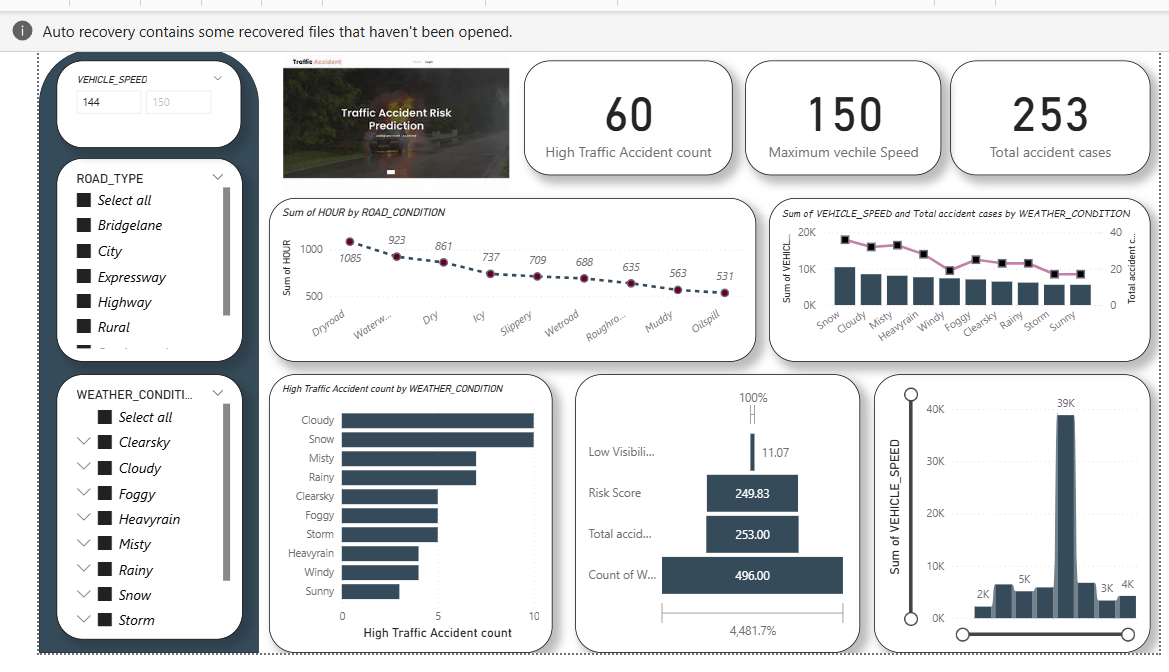

Layout of this report page (visuals, bound fields, positions):
{"tool":"powerbi","page":{"name":"Page 1","canvas":[1280,720],"ordinal":0},"visuals":[{"type":"card","fields":{"Values":["smart taffic.High Traffic Accident count"]},"box":[554.3,42.9,238.6,131.4],"z":0},{"type":"card","fields":{"Values":["smart taffic.Maximum vechile Speed"]},"box":[807.1,42.9,224.3,131.4],"z":1000},{"type":"card","fields":{"Values":["smart taffic.Total accident cases"]},"box":[1041.4,42.9,228.6,131.4],"z":2000},{"type":"shape","box":[0,30,251.4,690],"z":3000},{"type":"lineChart","fields":{"Y":["Sum(smart taffic.HOUR)"],"Category":["smart taffic.ROAD_CONDITION"]},"box":[262.9,200,557.1,187.1],"z":4000},{"type":"barChart","fields":{"Y":["smart taffic.High Traffic Accident count"],"Category":["smart taffic.WEATHER_CONDITION"]},"box":[262.9,401.4,324.3,318.6],"z":5000},{"type":"lineStackedColumnComboChart","title":"Weather Impact on Vehicle speed & Accidents","fields":{"Y2":["smart taffic.Total accident cases"],"Category":["smart taffic.WEATHER_CONDITION"],"Y":["Sum(smart taffic.VEHICLE_SPEED)"]},"box":[834.3,200,435.7,187.1],"z":6000},{"type":"slicer","fields":{"Values":["smart taffic.ROAD_TYPE"]},"box":[20,154.3,212.9,232.9],"z":7000},{"type":"image","box":[274.3,30,268.6,170],"z":8000},{"type":"funnel","fields":{"Y":["smart taffic.Low Visibility Percentage","smart taffic.Risk Score","smart taffic.Total accident cases","CountNonNull(smart taffic.WEATHER_CONDITION)"]},"box":[612.9,401.4,325.7,318.6],"z":9000},{"type":"columnChart","fields":{"Y":["Sum(smart taffic.VEHICLE_SPEED)"],"Category":["smart taffic.SPEED_LIMIT"]},"box":[954.3,401.4,315.7,318.6],"z":9001},{"type":"slicer","fields":{"Values":["smart taffic.WEATHER_CONDITION","smart taffic.VEHICLE_SPEED"]},"box":[20,401.4,212.9,302.9],"z":9002},{"type":"slicer","fields":{"Values":["smart taffic.VEHICLE_SPEED"]},"box":[20,42.9,211.4,100],"z":9003}]}

Visuals, with their boxes in screenshot pixels (x1, y1, x2, y2):
card - smart taffic.High Traffic Accident count: l=518, t=62, r=725, b=176
card - smart taffic.Maximum vechile Speed: l=738, t=62, r=933, b=176
card - smart taffic.Total accident cases: l=941, t=62, r=1140, b=176
shape: l=37, t=50, r=255, b=650
lineChart - Sum(smart taffic.HOUR) x smart taffic.ROAD_CONDITION: l=265, t=198, r=749, b=361
barChart - smart taffic.High Traffic Accident count x smart taffic.WEATHER_CONDITION: l=265, t=373, r=547, b=650
"Weather Impact on Vehicle speed & Accidents" lineStackedColumnComboChart: l=761, t=198, r=1140, b=361
slicer - smart taffic.ROAD_TYPE: l=54, t=158, r=239, b=361
image: l=275, t=50, r=508, b=198
funnel - smart taffic.Low Visibility Percentage x smart taffic.Risk Score: l=569, t=373, r=852, b=650
columnChart - Sum(smart taffic.VEHICLE_SPEED) x smart taffic.SPEED_LIMIT: l=866, t=373, r=1140, b=650
slicer - smart taffic.WEATHER_CONDITION x smart taffic.VEHICLE_SPEED: l=54, t=373, r=239, b=636
slicer - smart taffic.VEHICLE_SPEED: l=54, t=62, r=238, b=148
